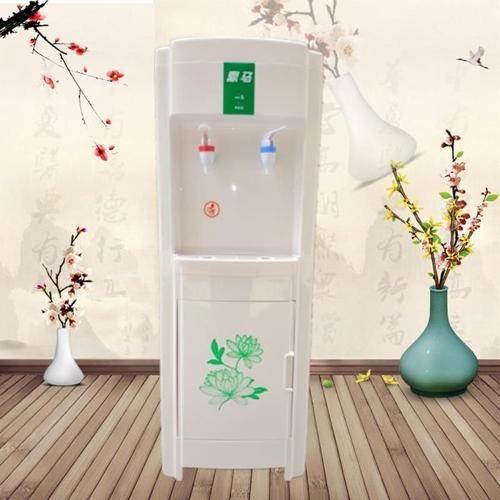Dispenser: (154, 36, 324, 480)
